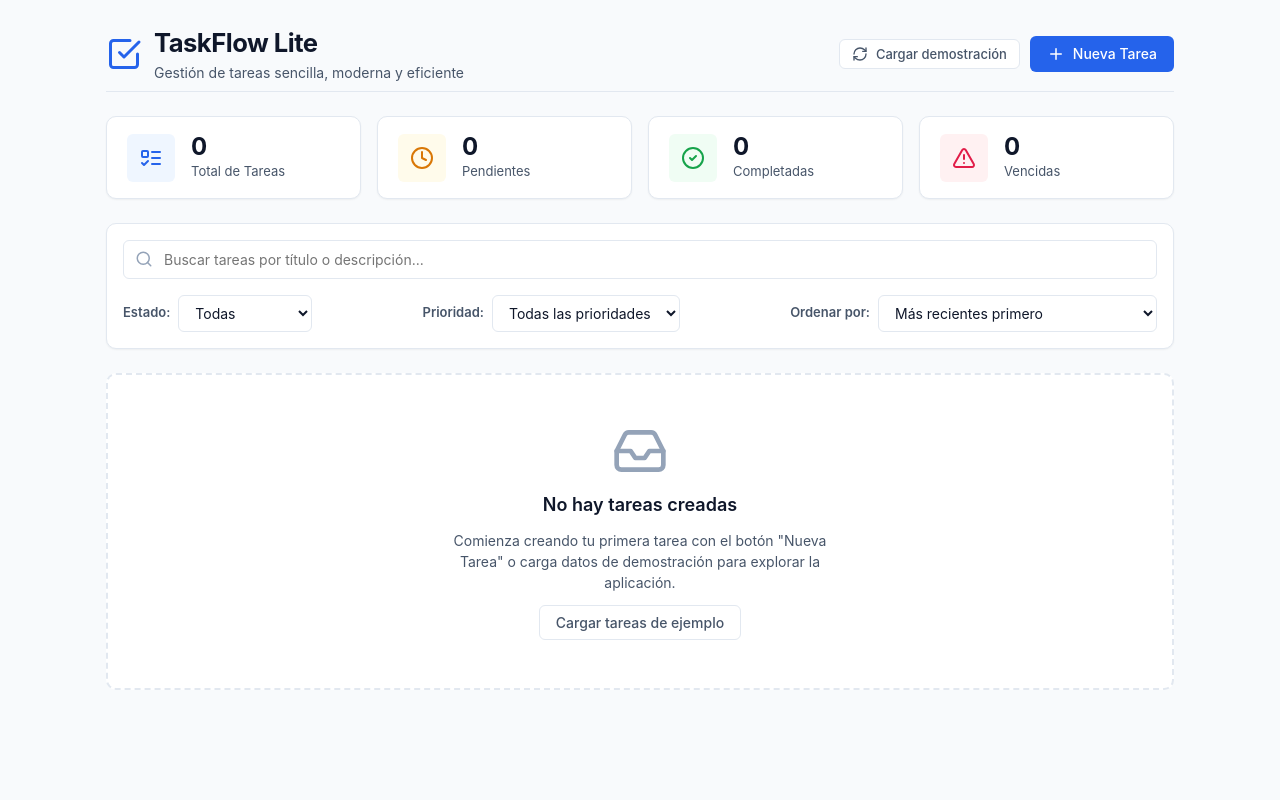
Scenario: TaskFlow Lite App Integration › debe abrir el modal, validar título vacío y crear una tarea nueva
Click the button "Nueva Tarea": (1102, 54) 1030,36 -> 1174,72
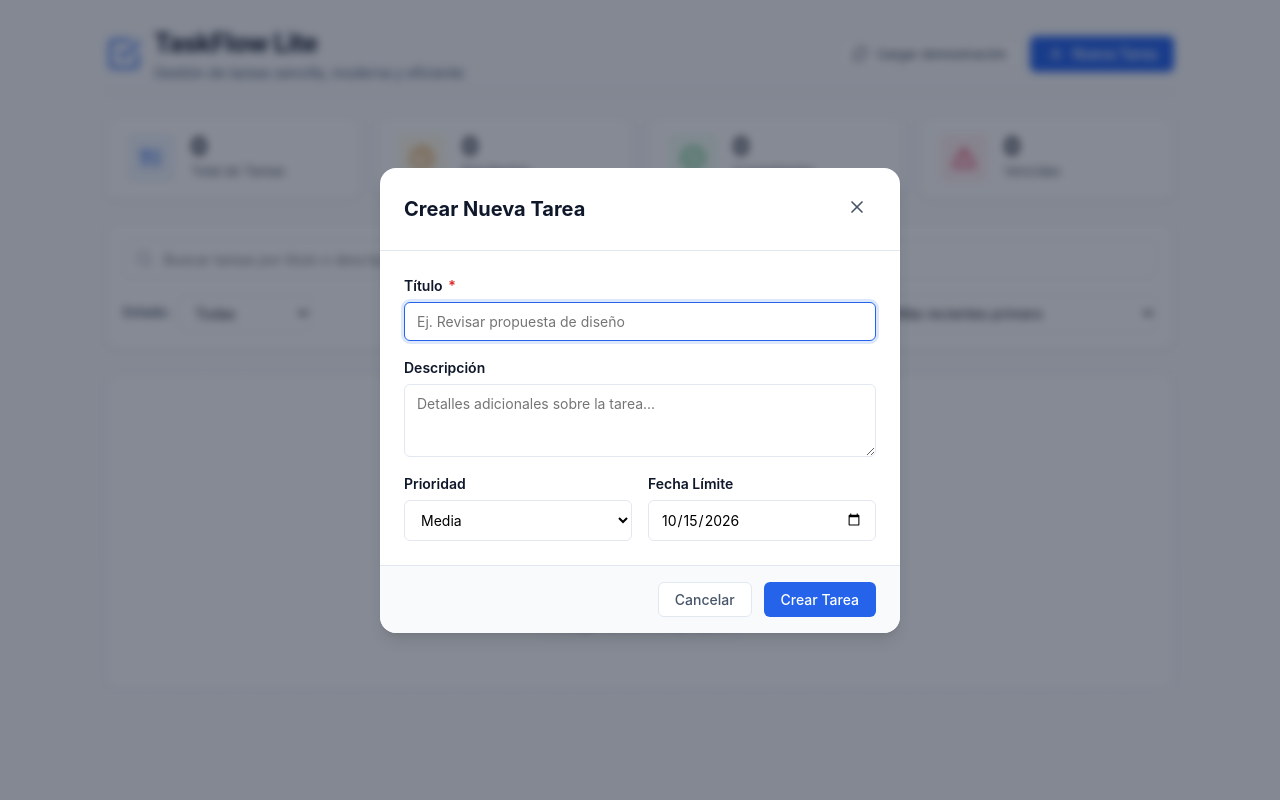
Result: the dialog is shown
Intentar enviar sin título
Click the button "Crear Tarea": (820, 599) 764,582 -> 876,616
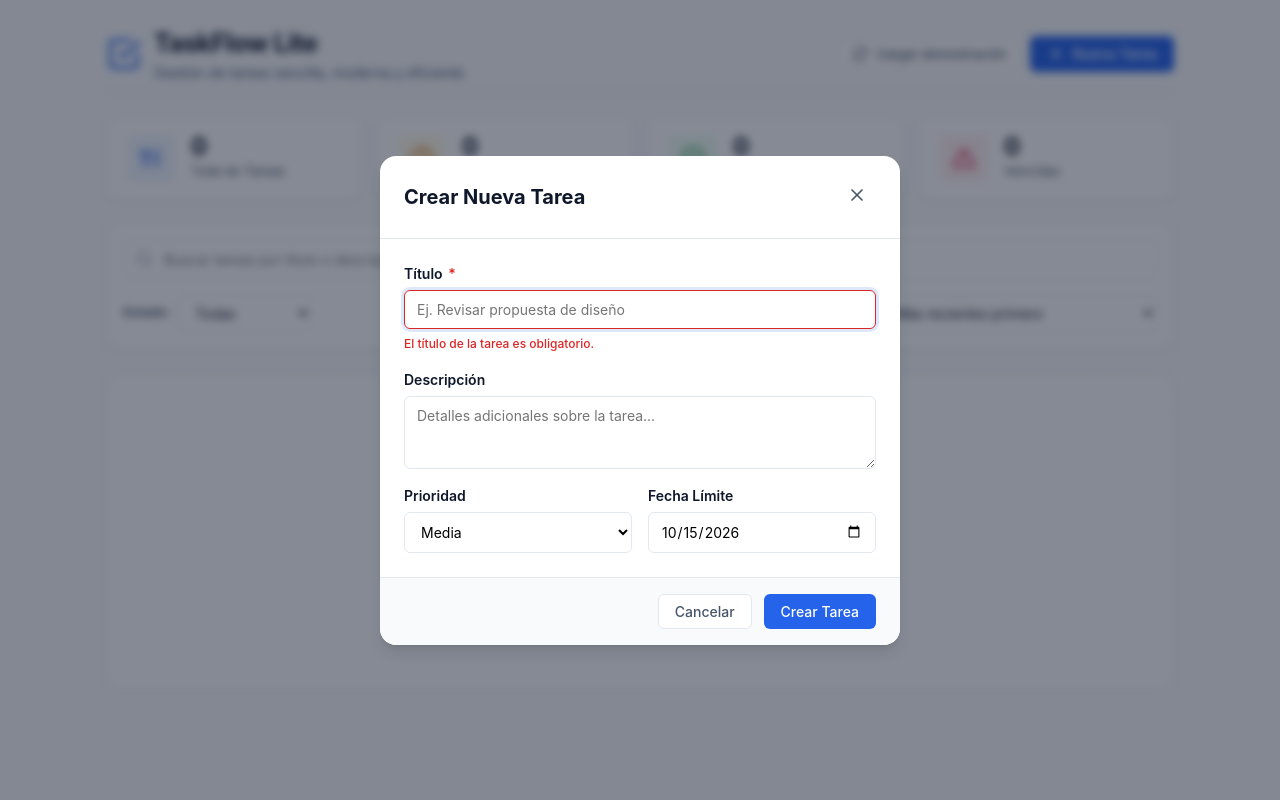
Result: the text "El título de la tarea es obligatorio." is shown at 404,336 -> 594,350
Escribir título y enviar
In the field with placeholder "Ej. Revisar propuesta de diseño": (640, 309) 404,290 -> 876,328, type "Aprender Vitest y RTL"
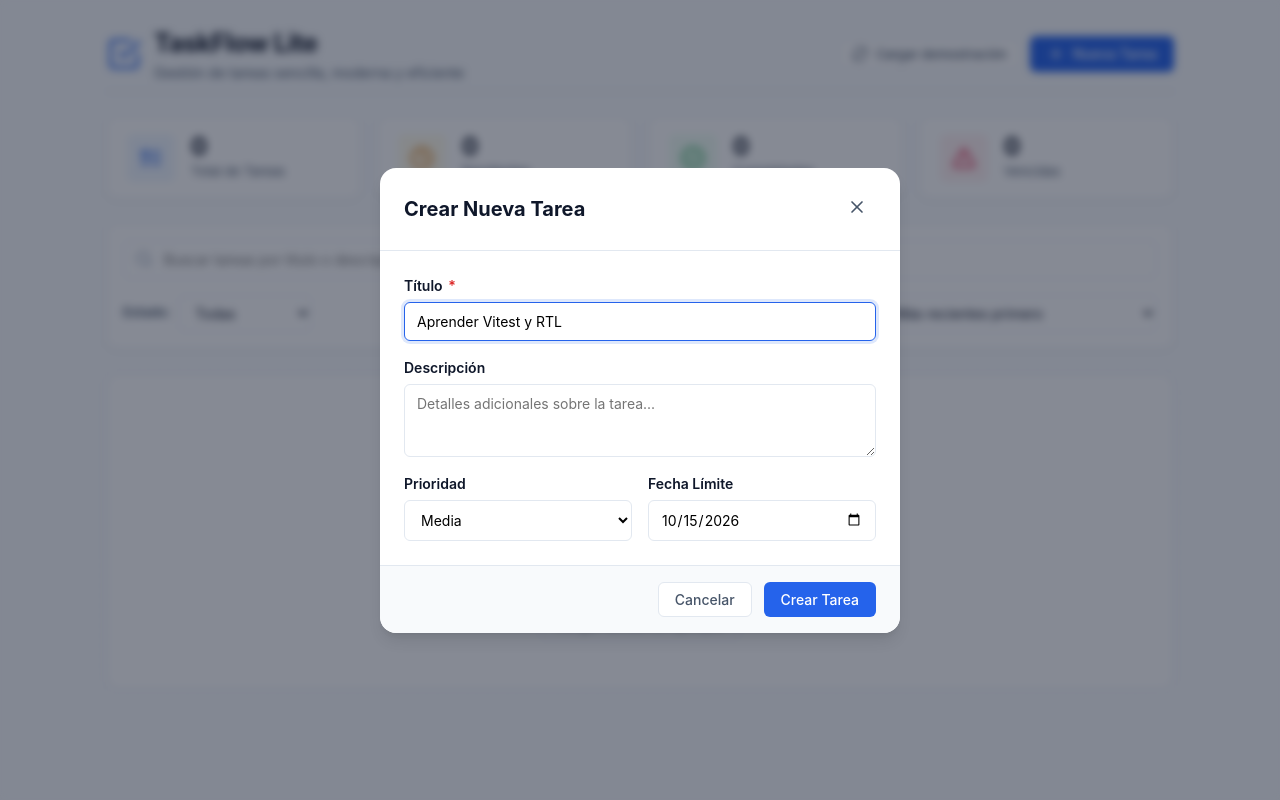
Click the button "Crear Tarea": (820, 599) 764,582 -> 876,616
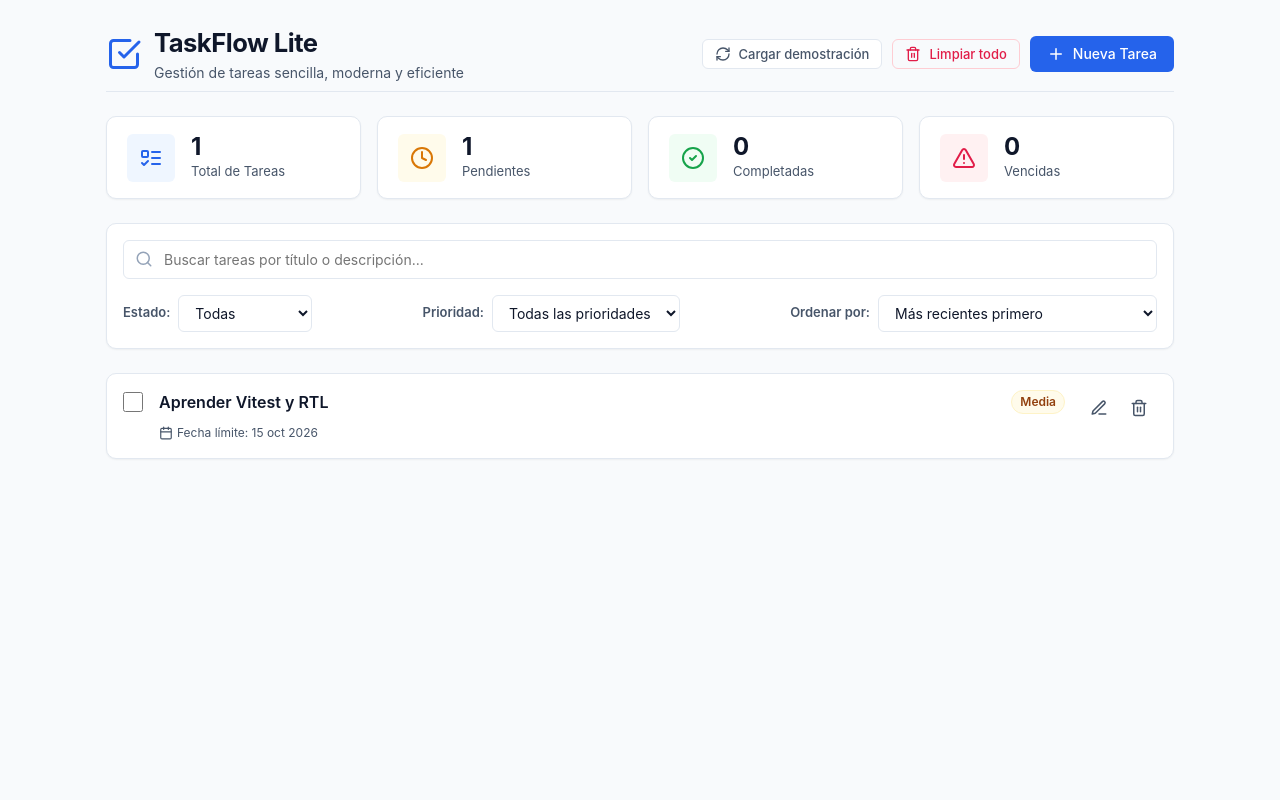
Result: the heading "Aprender Vitest y RTL" is shown at 159,390 -> 328,414
